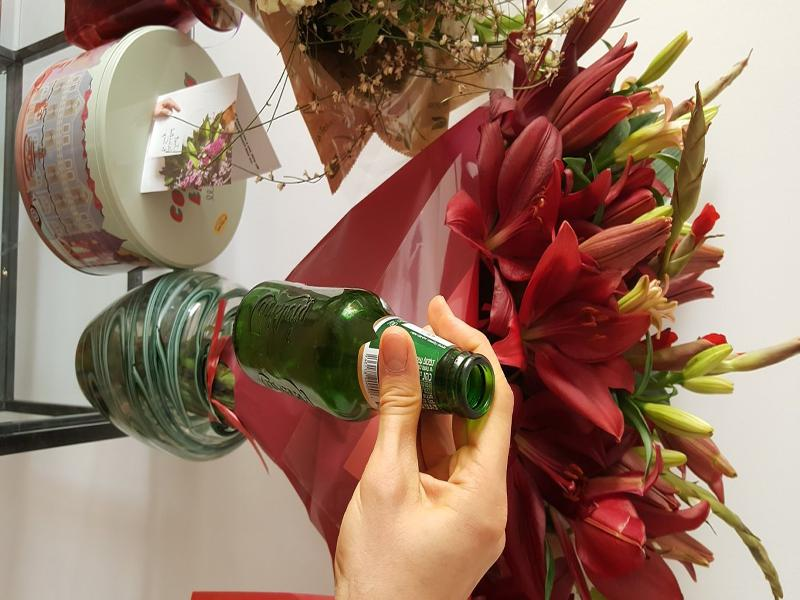Beer: (233, 279, 492, 421)
